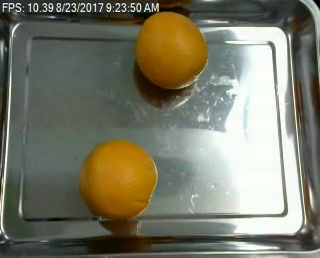Orange: (80, 140, 158, 219), (135, 10, 209, 87)
